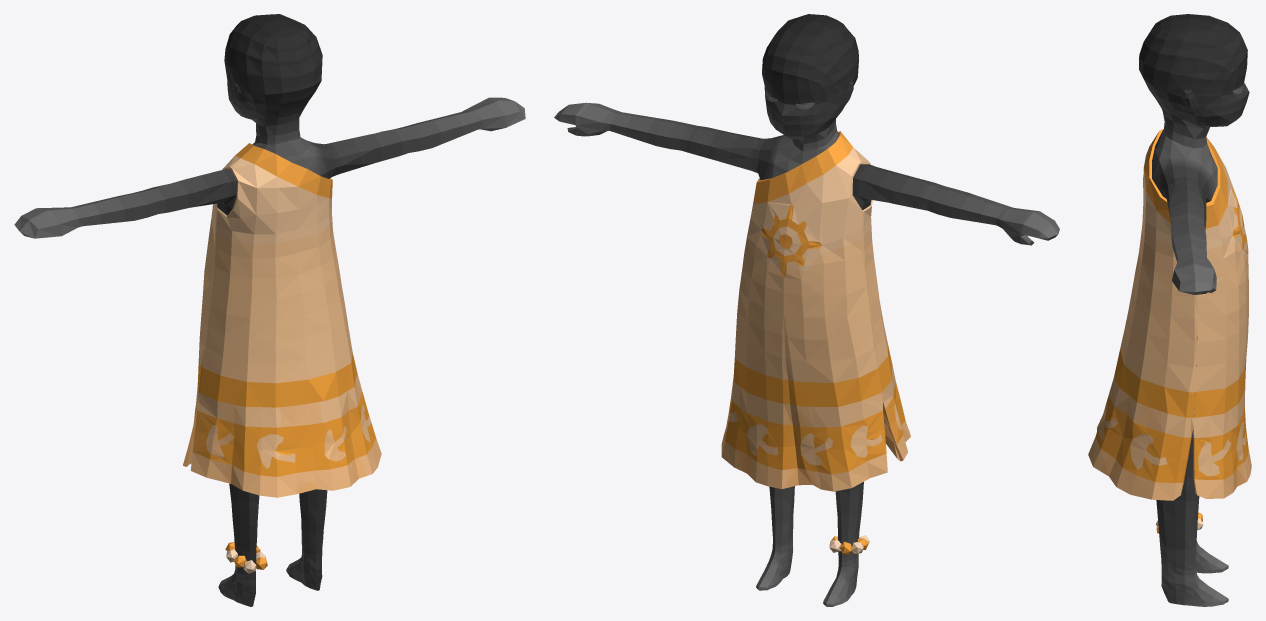
The model's file is CharSkyKid_Body_SunlightDress.glb.
3 views of the same model, side by side, from view 1: azimuth 30°, elevation 25°; view 2: azimuth 150°, elevation 25°; view 3: azimuth 270°, elevation 25° (orthographic).
Visible parts, largest first — view 1: CharSkyKid_Body_SunlightDress; view 2: CharSkyKid_Body_SunlightDress; view 3: CharSkyKid_Body_SunlightDress.
Boxes of the visible parts, x1,y1,x2,y2 form: CharSkyKid_Body_SunlightDress: [14, 14, 525, 606]; CharSkyKid_Body_SunlightDress: [554, 14, 1059, 606]; CharSkyKid_Body_SunlightDress: [1088, 14, 1251, 606].
Bounding box in the file's own units: 13.83 × 14.94 × 3.9.
Materials: 1 (1 with a texture image).
